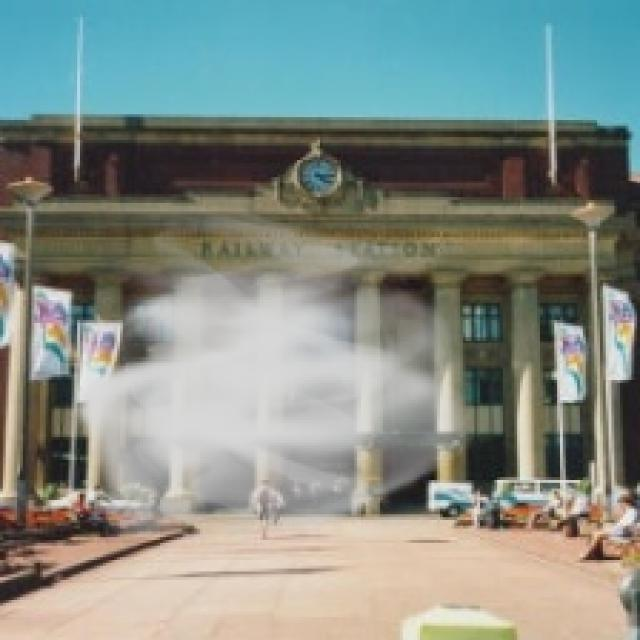Smoke: (71, 200, 486, 549)
